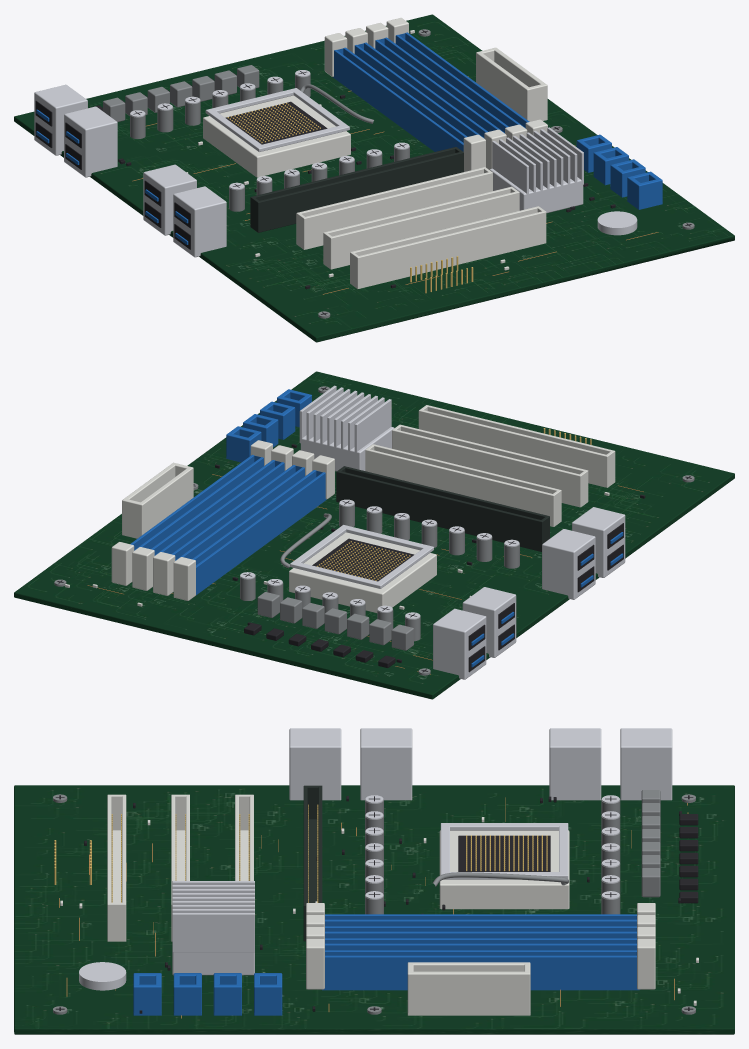
Rendered from motherboard.glb.
3 views of the same model, one above another, from view 1: azimuth 30°, elevation 25°; view 2: azimuth 150°, elevation 25°; view 3: azimuth 270°, elevation 25° (orthographic). The views are drawn at different scales.
Visible parts, largest first — view 1: ATX PCB, Connector end wall (×10), Connector side wall (×10), Rear IO connector (×4), CPU socket, Socket inset, Chipset heat sink, DIMM latch (×2), CPU retention bridge (×2), Chipset fin, CMOS battery, CPU retention frame; view 2: ATX PCB, Connector end wall (×10), Connector side wall (×10), Rear IO connector (×4), DIMM latch (×5), CPU socket, Socket inset, Chipset heat sink, CPU retention bridge (×2), Chipset fin; view 3: ATX PCB, Connector side wall (×15), Rear IO connector (×4), CPU socket, Chipset fin, Socket inset, Connector floor (×4), Connector end wall (×4), DIMM latch (×2), Chipset heat sink, CMOS battery, CPU retention bridge (×2) (+3 smaller).
Part boxes in pixels (left/top/right/bottom): ATX PCB: left=14, top=14, right=734, bottom=342; Connector end wall (×10): left=250, top=83, right=661, bottom=288; Connector side wall (×10): left=334, top=32, right=547, bottom=151; Rear IO connector (×4): left=34, top=84, right=226, bottom=257; CPU socket: left=203, top=95, right=350, bottom=177; Socket inset: left=225, top=101, right=327, bottom=144; Chipset heat sink: left=489, top=168, right=583, bottom=213; DIMM latch (×2): left=324, top=33, right=485, bottom=171; CPU retention bridge (×2): left=206, top=88, right=347, bottom=151; Chipset fin: left=492, top=141, right=528, bottom=194; CMOS battery: left=597, top=211, right=637, bottom=235; CPU retention frame: left=205, top=110, right=265, bottom=151; ATX PCB: left=14, top=371, right=734, bottom=699; Connector end wall (×10): left=122, top=405, right=615, bottom=551; Connector side wall (×10): left=122, top=454, right=325, bottom=592; Rear IO connector (×4): left=433, top=507, right=625, bottom=679; DIMM latch (×5): left=111, top=455, right=334, bottom=600; CPU socket: left=289, top=532, right=436, bottom=612; Socket inset: left=312, top=538, right=414, bottom=581; Chipset heat sink: left=300, top=427, right=394, bottom=471; CPU retention bridge (×2): left=292, top=525, right=432, bottom=587; Chipset fin: left=354, top=399, right=391, bottom=456; ATX PCB: left=14, top=785, right=734, bottom=1034; Connector side wall (×15): left=107, top=902, right=636, bottom=1015; Rear IO connector (×4): left=289, top=728, right=672, bottom=800; CPU socket: left=439, top=830, right=569, bottom=909; Chipset fin: left=172, top=912, right=254, bottom=952; Socket inset: left=458, top=835, right=550, bottom=871; Connector floor (×4): left=112, top=819, right=639, bottom=990; Connector end wall (×4): left=107, top=786, right=322, bottom=941; DIMM latch (×2): left=306, top=938, right=655, bottom=989; Chipset heat sink: left=172, top=952, right=254, bottom=975; CMOS battery: left=79, top=962, right=126, bottom=990; CPU retention bridge (×2): left=440, top=823, right=568, bottom=874.
Size of the model in its own units: 0.249 by 0.0335 by 0.305.
Materials: 3 (3 with a texture image).
